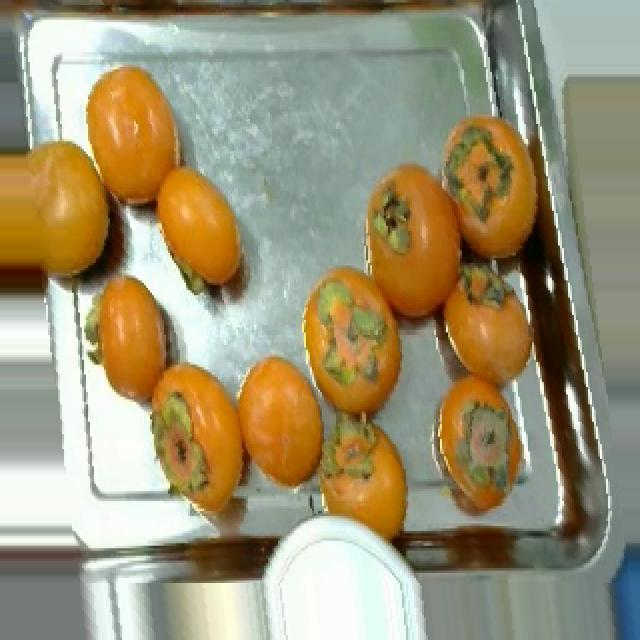Fruit: (0, 124, 118, 308), (420, 370, 540, 530), (82, 258, 190, 424), (228, 338, 332, 508), (74, 52, 196, 196), (142, 154, 256, 305)
